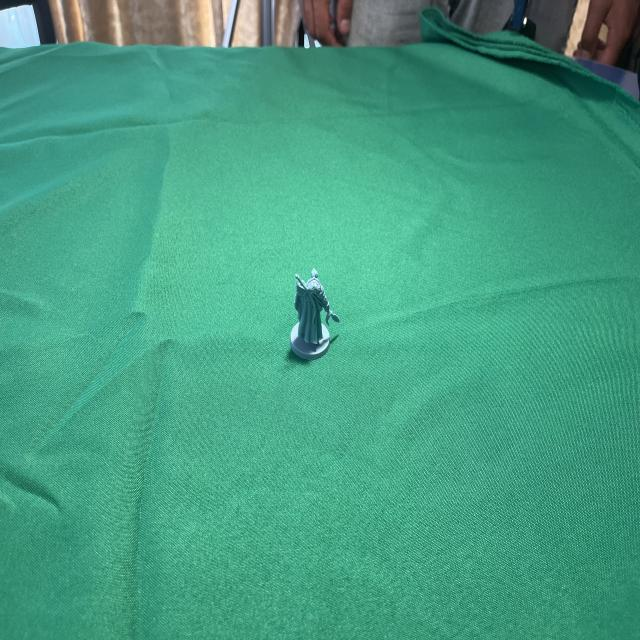isis_follower: (282, 262, 344, 370)
